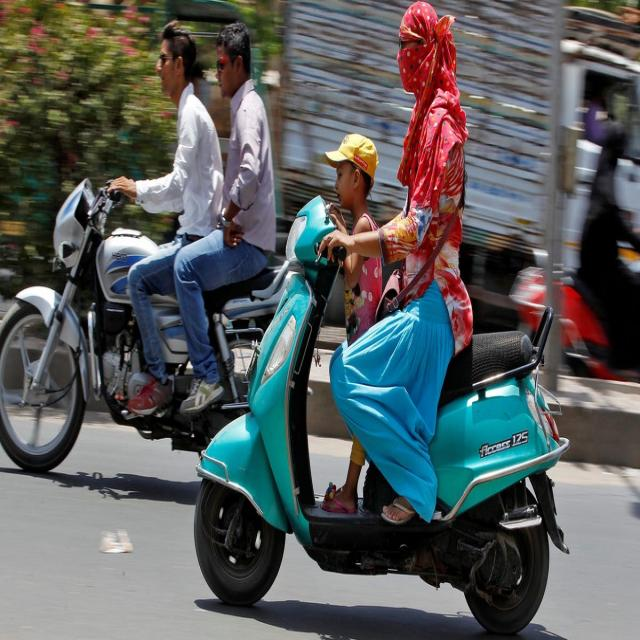motorcycle: (195, 2, 568, 632), (0, 22, 288, 471)
